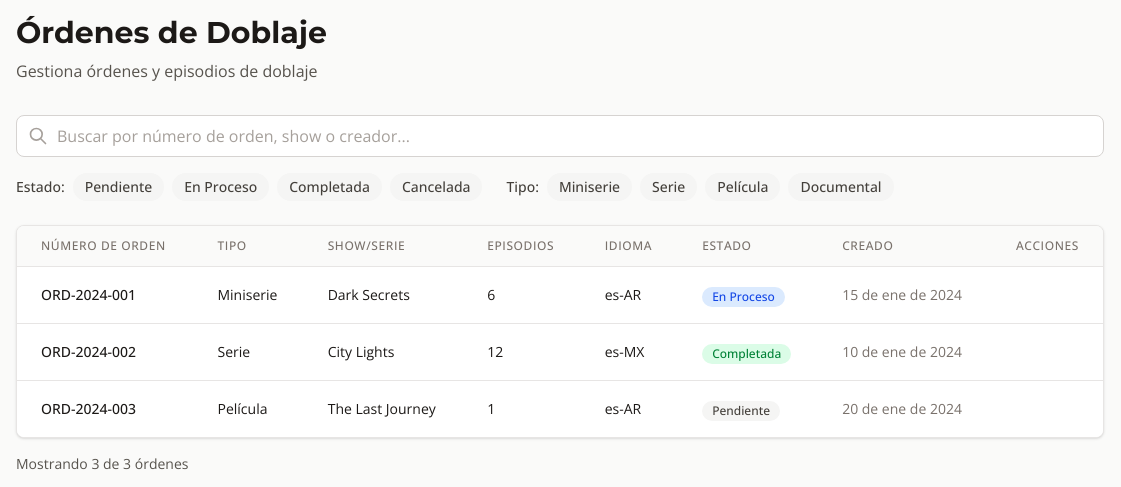
Test: OrdersList › filters orders by status chip
Click the button "Completada".
click(330, 187)  # box [277, 173, 382, 201]
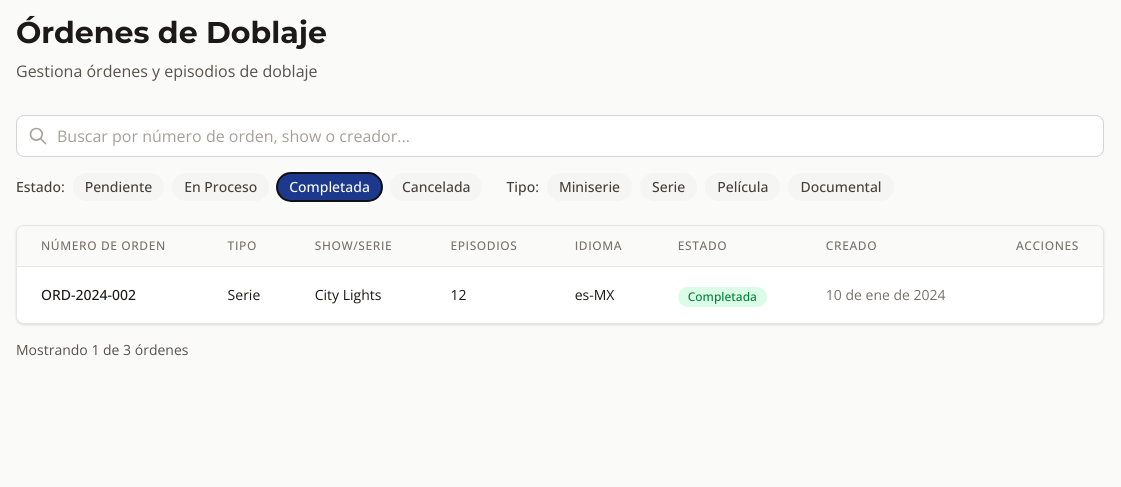
Expected: the text "ORD-2024-002" is shown, [41, 285, 136, 304]
Now the text "ORD-2024-001" is gone
Now the text "ORD-2024-003" is gone
